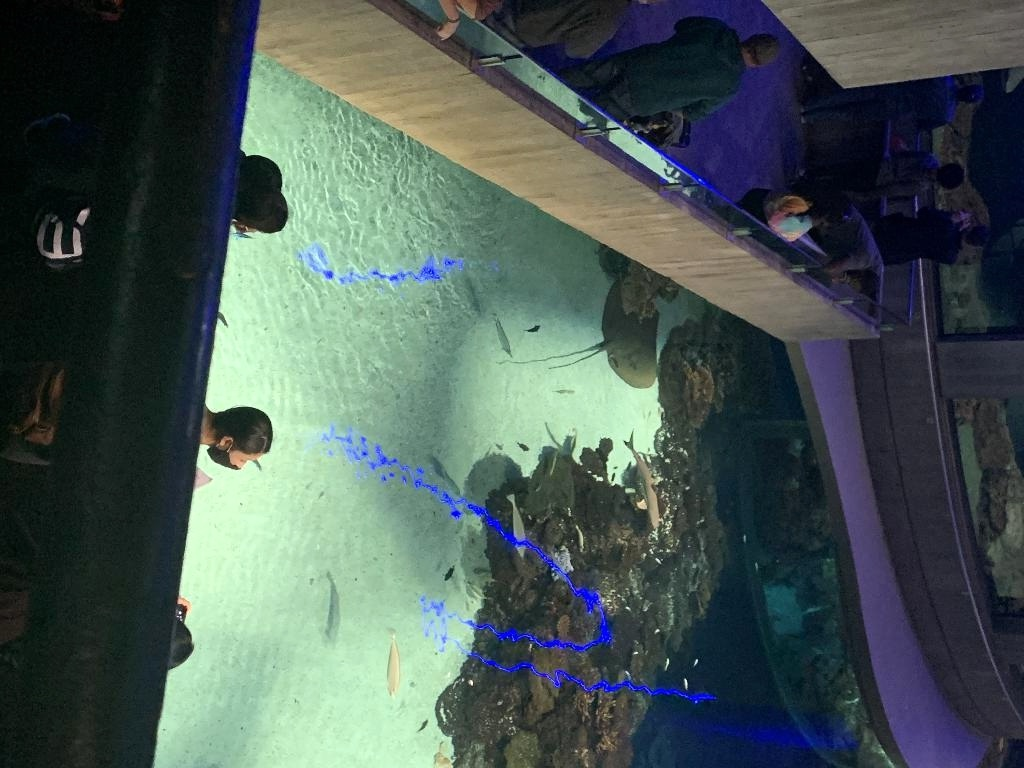fish: (504, 491, 530, 561), (385, 624, 403, 702), (492, 310, 514, 360), (326, 570, 340, 648), (463, 579, 493, 601), (574, 522, 586, 554), (548, 448, 560, 476), (442, 564, 458, 584), (415, 718, 431, 734), (522, 323, 542, 335), (516, 440, 530, 452), (681, 676, 691, 692), (692, 656, 700, 670), (664, 656, 670, 672), (755, 561, 761, 575), (652, 628, 662, 636), (632, 650, 640, 656), (744, 534, 748, 544)
shark: (624, 430, 664, 530)
stingray: (602, 278, 660, 388)
